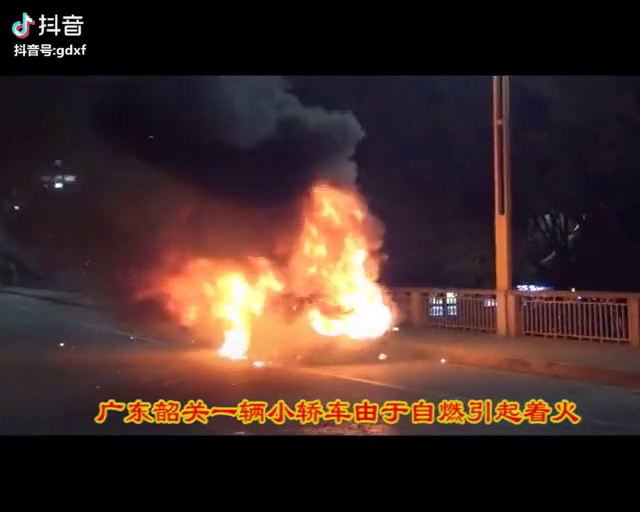fire: (166, 207, 389, 372)
yanwu: (43, 80, 366, 224)
